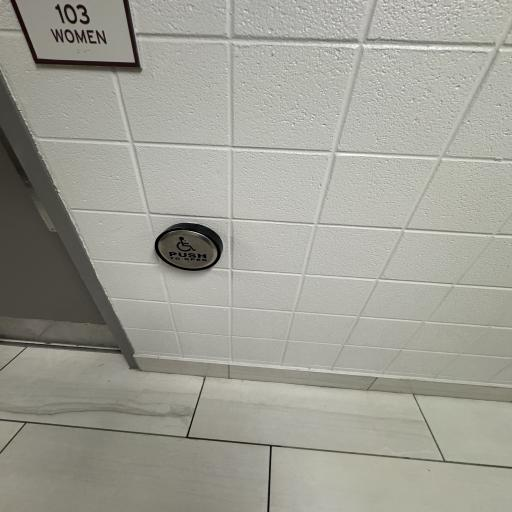handicap push button: (146, 212, 230, 274)
women bathroom sign: (0, 0, 145, 67)
